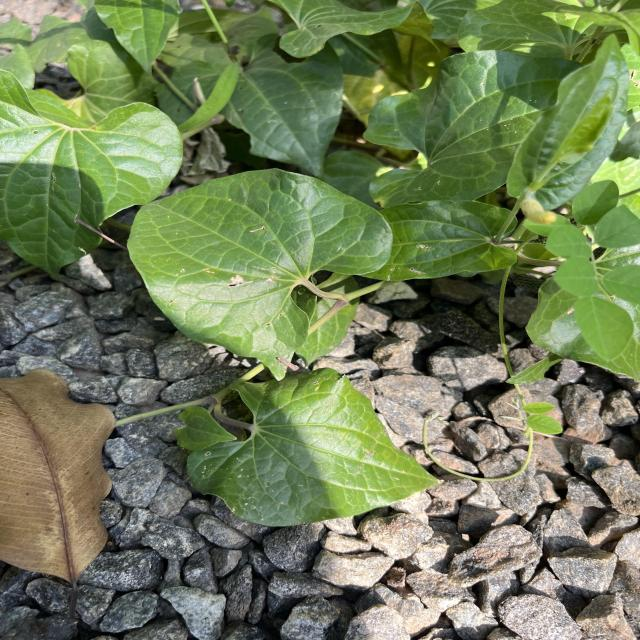Piper longum: (124, 166, 396, 361), (185, 365, 446, 530)
